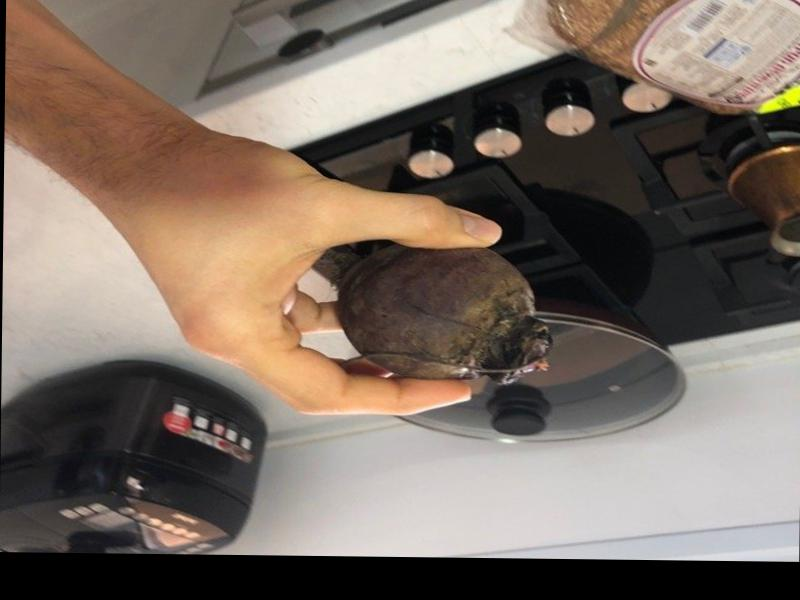Beet: (323, 244, 553, 382)
